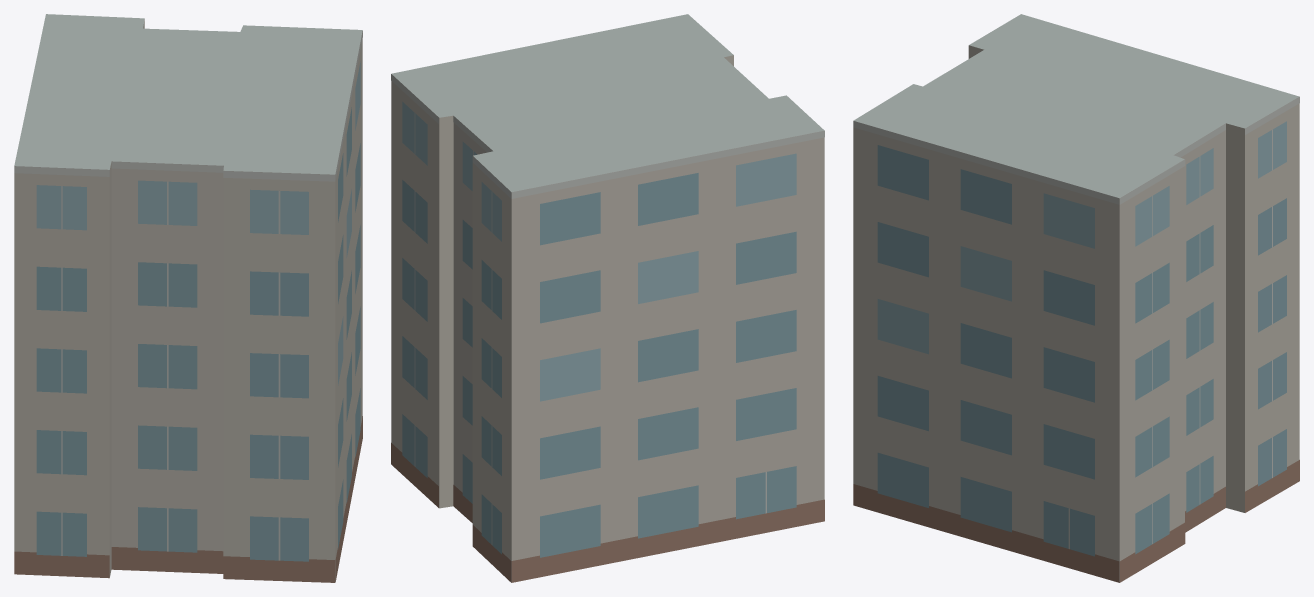
File: survey-upis-32979068.glb
The picture shows the model from 3 angles, left to right: view 1: azimuth 30°, elevation 25°; view 2: azimuth 150°, elevation 25°; view 3: azimuth 270°, elevation 25°; orthographic projection. The views are drawn at different scales.
Parts seen in each view (by area): view 1: survey-upis-32979068.tmp; view 2: survey-upis-32979068.tmp; view 3: survey-upis-32979068.tmp.
Boxes of the visible parts, box(x1,y1,x2,y2) form: survey-upis-32979068.tmp: box(14, 14, 362, 582); survey-upis-32979068.tmp: box(391, 14, 824, 582); survey-upis-32979068.tmp: box(853, 14, 1299, 582).
Size of the model in its own units: 14.5 by 14.1 by 14.84.
